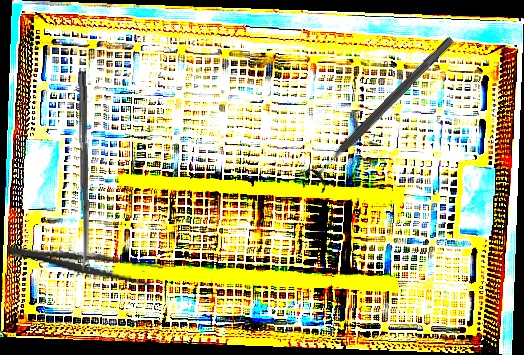Dressing Forceps: (4, 237, 165, 290)
Fixation Ring: (300, 28, 463, 195)
Surgical Spoon: (77, 71, 90, 272)
